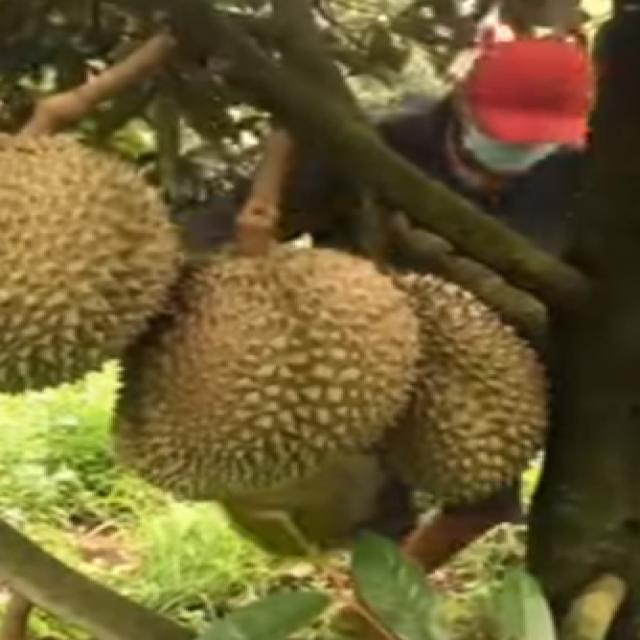mature: (104, 252, 427, 498), (313, 262, 560, 504), (0, 126, 198, 406)
